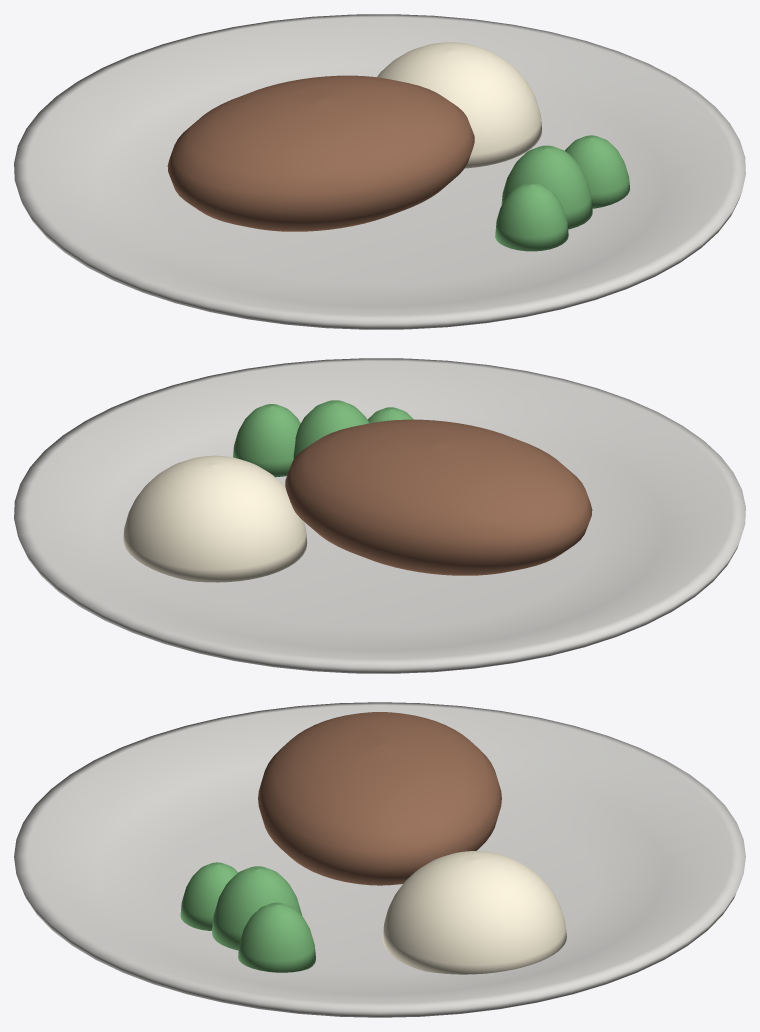
The model's file is file-teste.glb.
The picture shows the model from 3 angles, top to bottom: view 1: azimuth 30°, elevation 25°; view 2: azimuth 150°, elevation 25°; view 3: azimuth 270°, elevation 25°; orthographic projection.
Parts seen in each view (by area): view 1: file-teste; view 2: file-teste; view 3: file-teste.
Boxes of the visible parts, x1,y1,x2,y2 form: file-teste: (14,14,745,329); file-teste: (14,358,745,673); file-teste: (14,702,745,1017).
Size of the model in its own units: 0.27 by 0.055 by 0.27.
